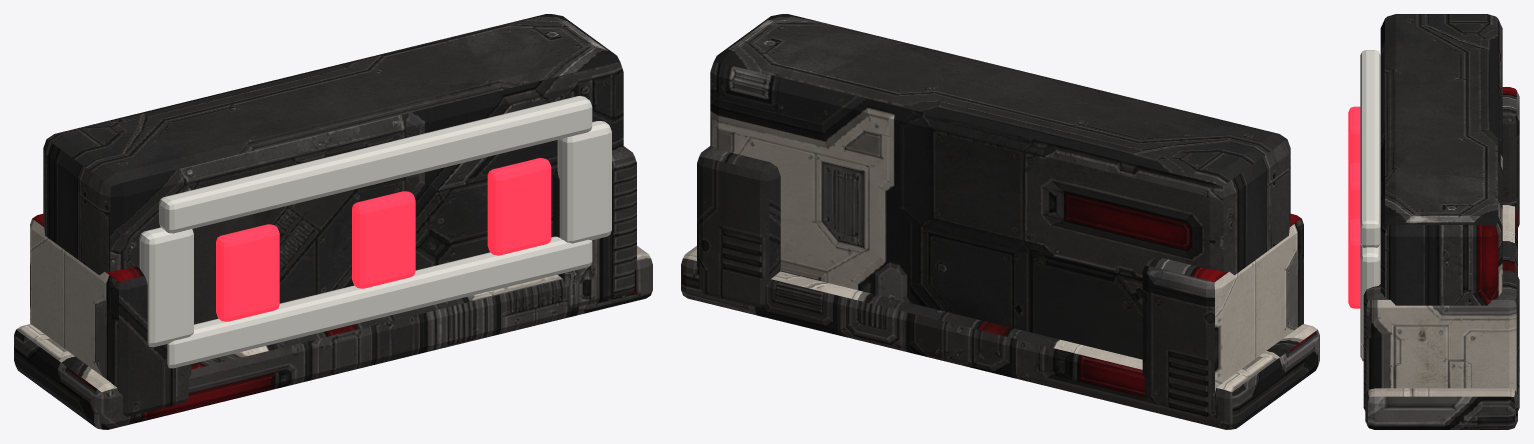
The model's file is SecurityBlastShieldModel.fbx.
The picture shows the model from 3 angles, left to right: view 1: azimuth 30°, elevation 25°; view 2: azimuth 150°, elevation 25°; view 3: azimuth 270°, elevation 25°; orthographic projection. The views are drawn at different scales.
Parts seen in each view (by area): view 1: Security Shield Armor, Security Shield Braces, Security Shield Warning Lenses; view 2: Security Shield Armor; view 3: Security Shield Armor, Security Shield Braces, Security Shield Warning Lenses.
Boxes of the visible parts, x1,y1,x2,y2 form: Security Shield Armor: [14, 14, 652, 429]; Security Shield Braces: [139, 96, 611, 368]; Security Shield Warning Lenses: [216, 158, 551, 321]; Security Shield Armor: [681, 14, 1319, 429]; Security Shield Armor: [1363, 14, 1519, 429]; Security Shield Braces: [1360, 50, 1380, 361]; Security Shield Warning Lenses: [1348, 106, 1360, 308].
Size of the model in its own units: 3.2 by 1.33 by 1.01.
3 materials, 1 textured.
